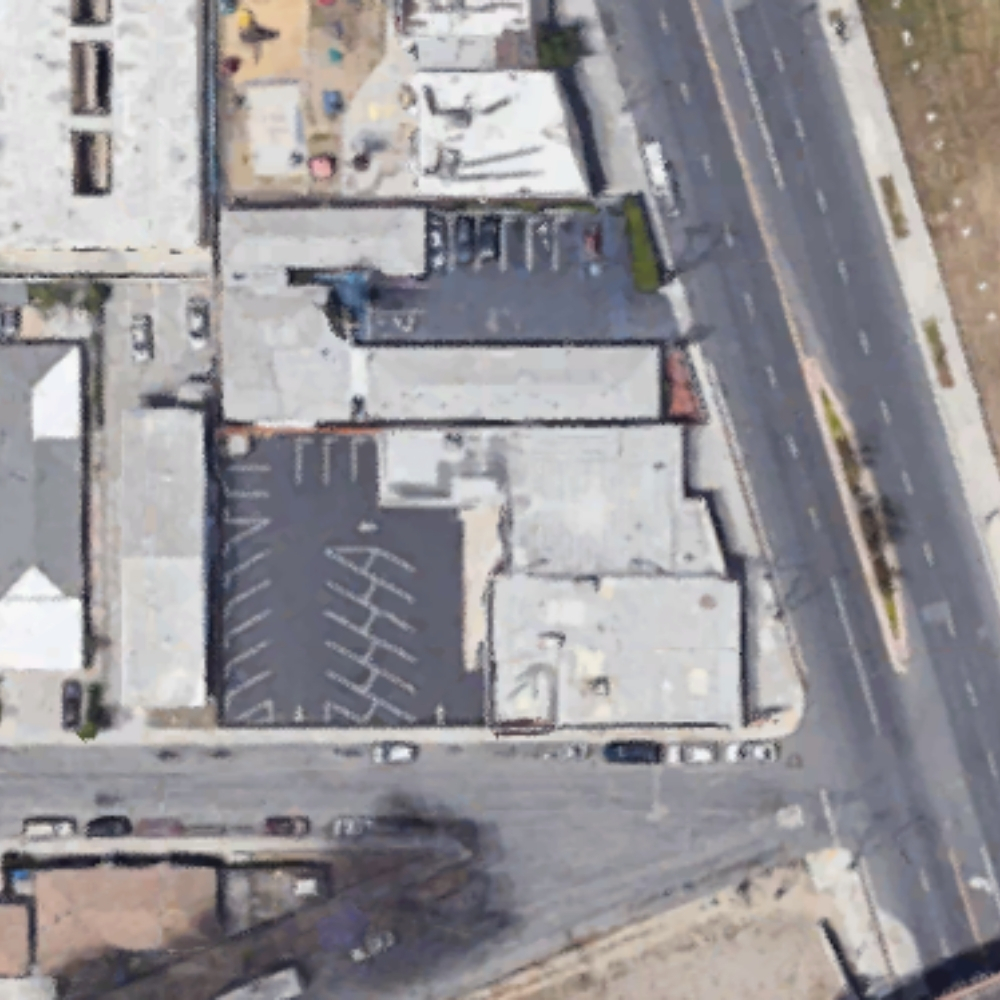parking: (220, 435, 485, 725), (365, 210, 685, 340)
